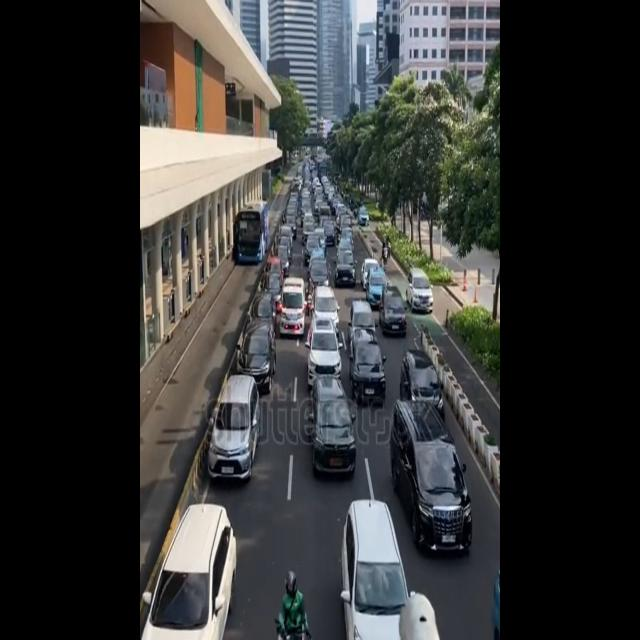Ambulance: (279, 270, 306, 342)
